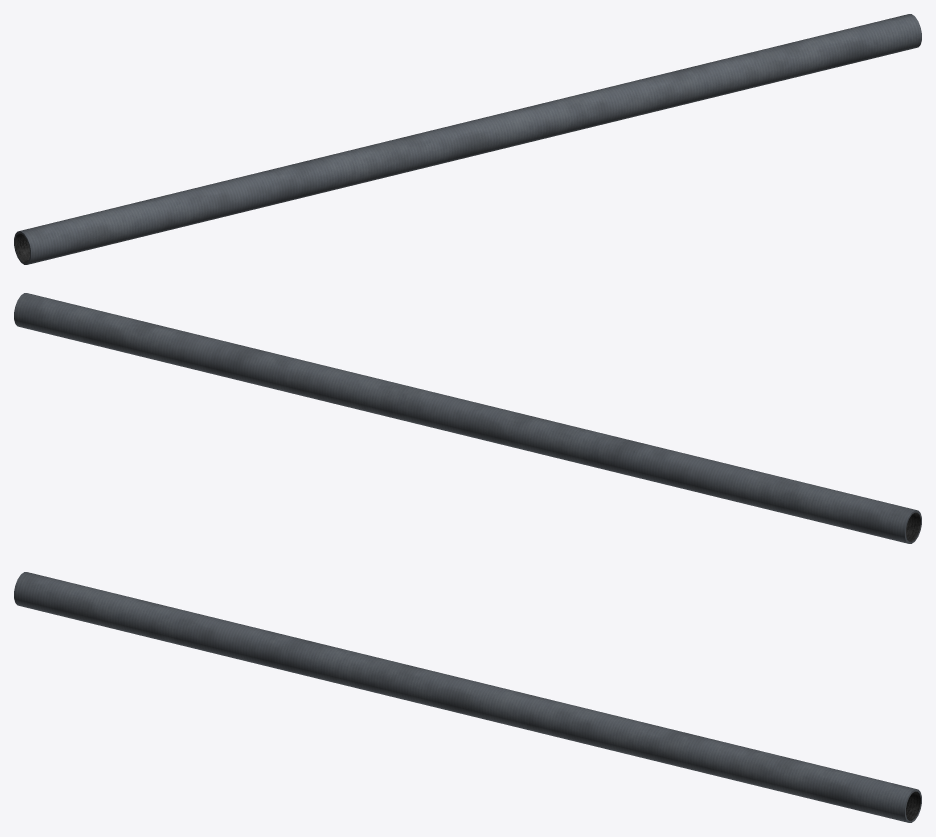
File: SM_DrainPipe_1.fbx
3 renders of one model, top to bottom at view 1: azimuth 30°, elevation 25°; view 2: azimuth 150°, elevation 25°; view 3: azimuth 330°, elevation 25°, orthographic.
Parts seen in each view (by area): view 1: SM_DrainPipe_1_LOD0; view 2: SM_DrainPipe_1_LOD0; view 3: SM_DrainPipe_1_LOD0.
Boxes of the visible parts, x1,y1,x2,y2 form: SM_DrainPipe_1_LOD0: (14,14,921,264); SM_DrainPipe_1_LOD0: (14,293,921,543); SM_DrainPipe_1_LOD0: (14,572,921,822).
Size of the model in its own units: 1200 by 40 by 40.
Materials: 1 (1 with a texture image).
